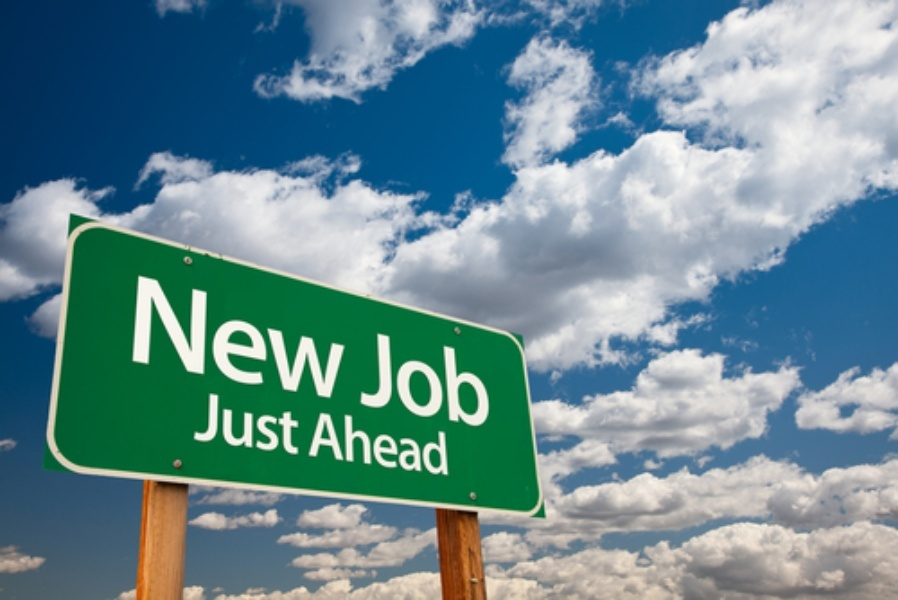text: (145, 274, 160, 403), (161, 274, 176, 403), (177, 274, 192, 403), (193, 274, 208, 403), (209, 274, 224, 403), (225, 274, 240, 403), (241, 274, 256, 403), (257, 274, 272, 403), (273, 274, 288, 403), (289, 274, 304, 403), (305, 274, 320, 403), (321, 274, 336, 403), (369, 326, 384, 430), (385, 326, 400, 430), (401, 326, 416, 430), (417, 326, 432, 430), (433, 326, 448, 430), (449, 326, 464, 430), (465, 326, 480, 430), (337, 274, 347, 403), (321, 406, 336, 478), (337, 406, 352, 478), (353, 406, 368, 478), (369, 406, 384, 478), (385, 406, 400, 478), (401, 406, 416, 478), (417, 406, 432, 478), (433, 406, 448, 478), (481, 326, 491, 430), (209, 389, 224, 457), (225, 389, 240, 457), (241, 389, 256, 457), (257, 389, 272, 457), (273, 389, 288, 457), (194, 389, 208, 457), (137, 274, 144, 403), (360, 326, 368, 430), (309, 406, 320, 478), (289, 389, 300, 457), (449, 406, 450, 478)
